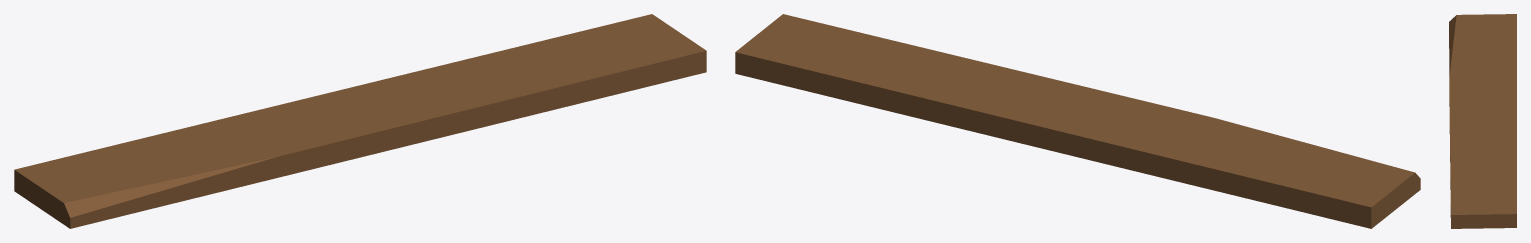
The model's file is WoodPlank_02.glb.
The picture shows the model from 3 angles, left to right: view 1: azimuth 30°, elevation 25°; view 2: azimuth 150°, elevation 25°; view 3: azimuth 270°, elevation 25°; orthographic projection. The views are drawn at different scales.
Parts seen in each view (by area): view 1: WoodPlank_02; view 2: WoodPlank_02; view 3: WoodPlank_02.
Part boxes in pixels (x1=…): WoodPlank_02: x1=14, y1=14, x2=706, y2=228; WoodPlank_02: x1=735, y1=14, x2=1420, y2=228; WoodPlank_02: x1=1449, y1=14, x2=1516, y2=228.
Size of the model in its own units: 1.03 by 0.0333 by 0.1472.
1 material, 1 textured.
